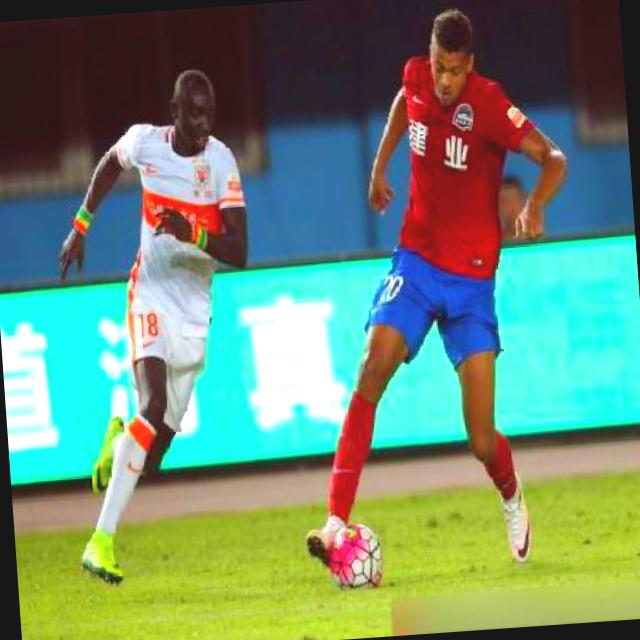Person: (254, 0, 603, 617), (15, 51, 274, 628)
